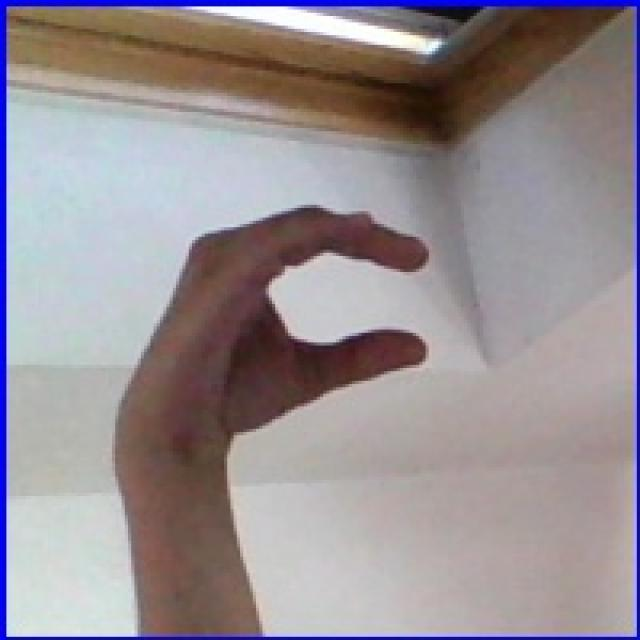Letra C: (83, 194, 445, 493)
